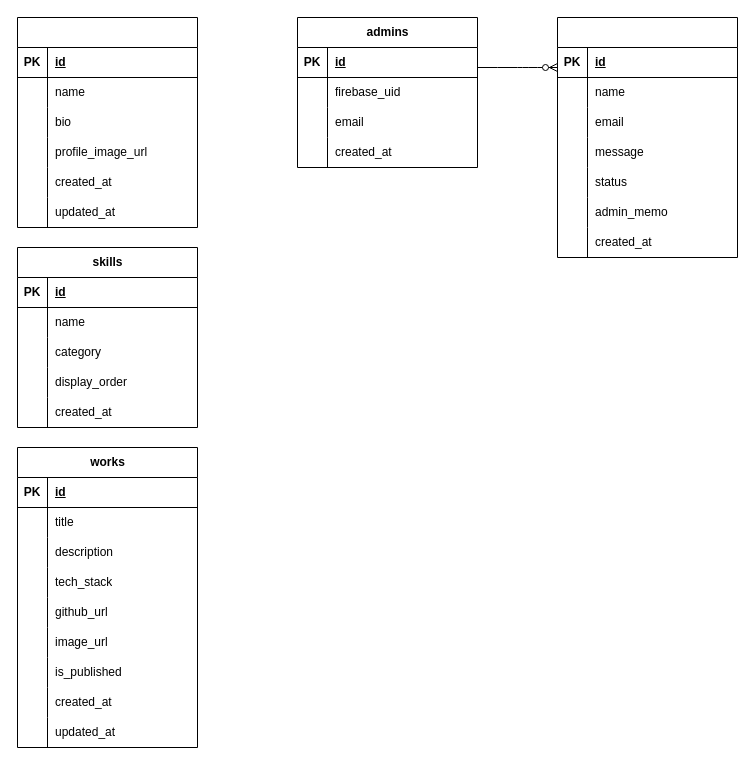
Some shapes in this 755 by 765 pixel diagram are drawn without their labels. Here are the shapes that lost their labels. From the top down, the box of each, then its label:
(16, 16, 198, 228): profiles
(556, 16, 738, 258): contacts
